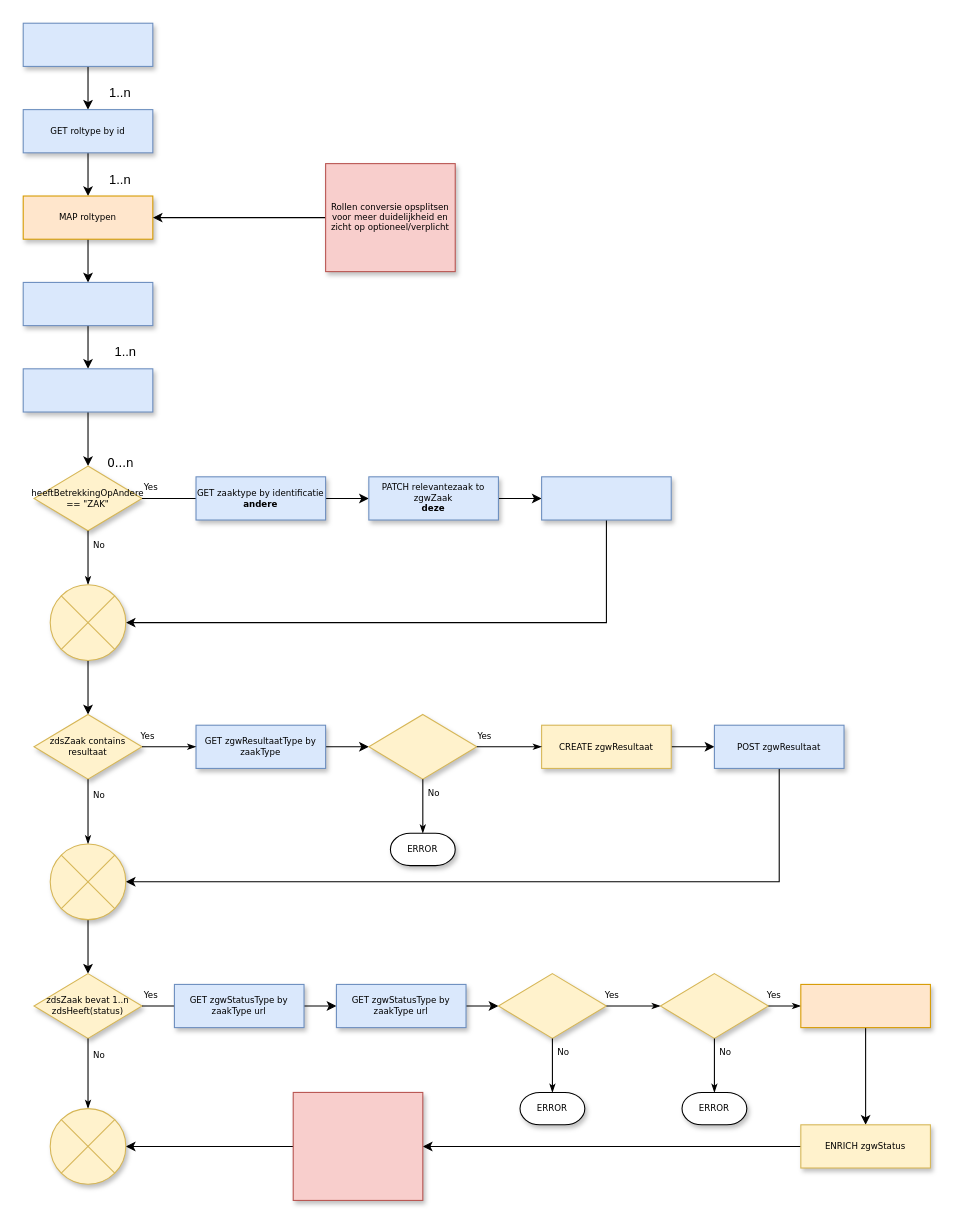
Some shapes in this 956 by 1227 pixel diagram are drawn without their labels. The shapes that lost their labels are listed below. From the top down, each one's centre as x and y in pixels, then its label:
At (x=88, y=46): "GET zaaktype by identificatie".
At (x=88, y=305): "POST zgwZaak".
At (x=88, y=391): "POST zgwRol".
At (x=607, y=499): "PATCH relevantezaak to zgwZaak andere".
At (x=423, y=748): "contains zgwResultaatType with omschrijving".
At (x=553, y=1007): "contains zgwStatusType with omschrijving".
At (x=715, y=1007): "volgnummer matches".
At (x=866, y=1007): "MAP zdsHeeft zgwStatus".
At (x=358, y=1147): "POST ... ???".
